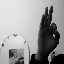f: (37, 5, 61, 50)
